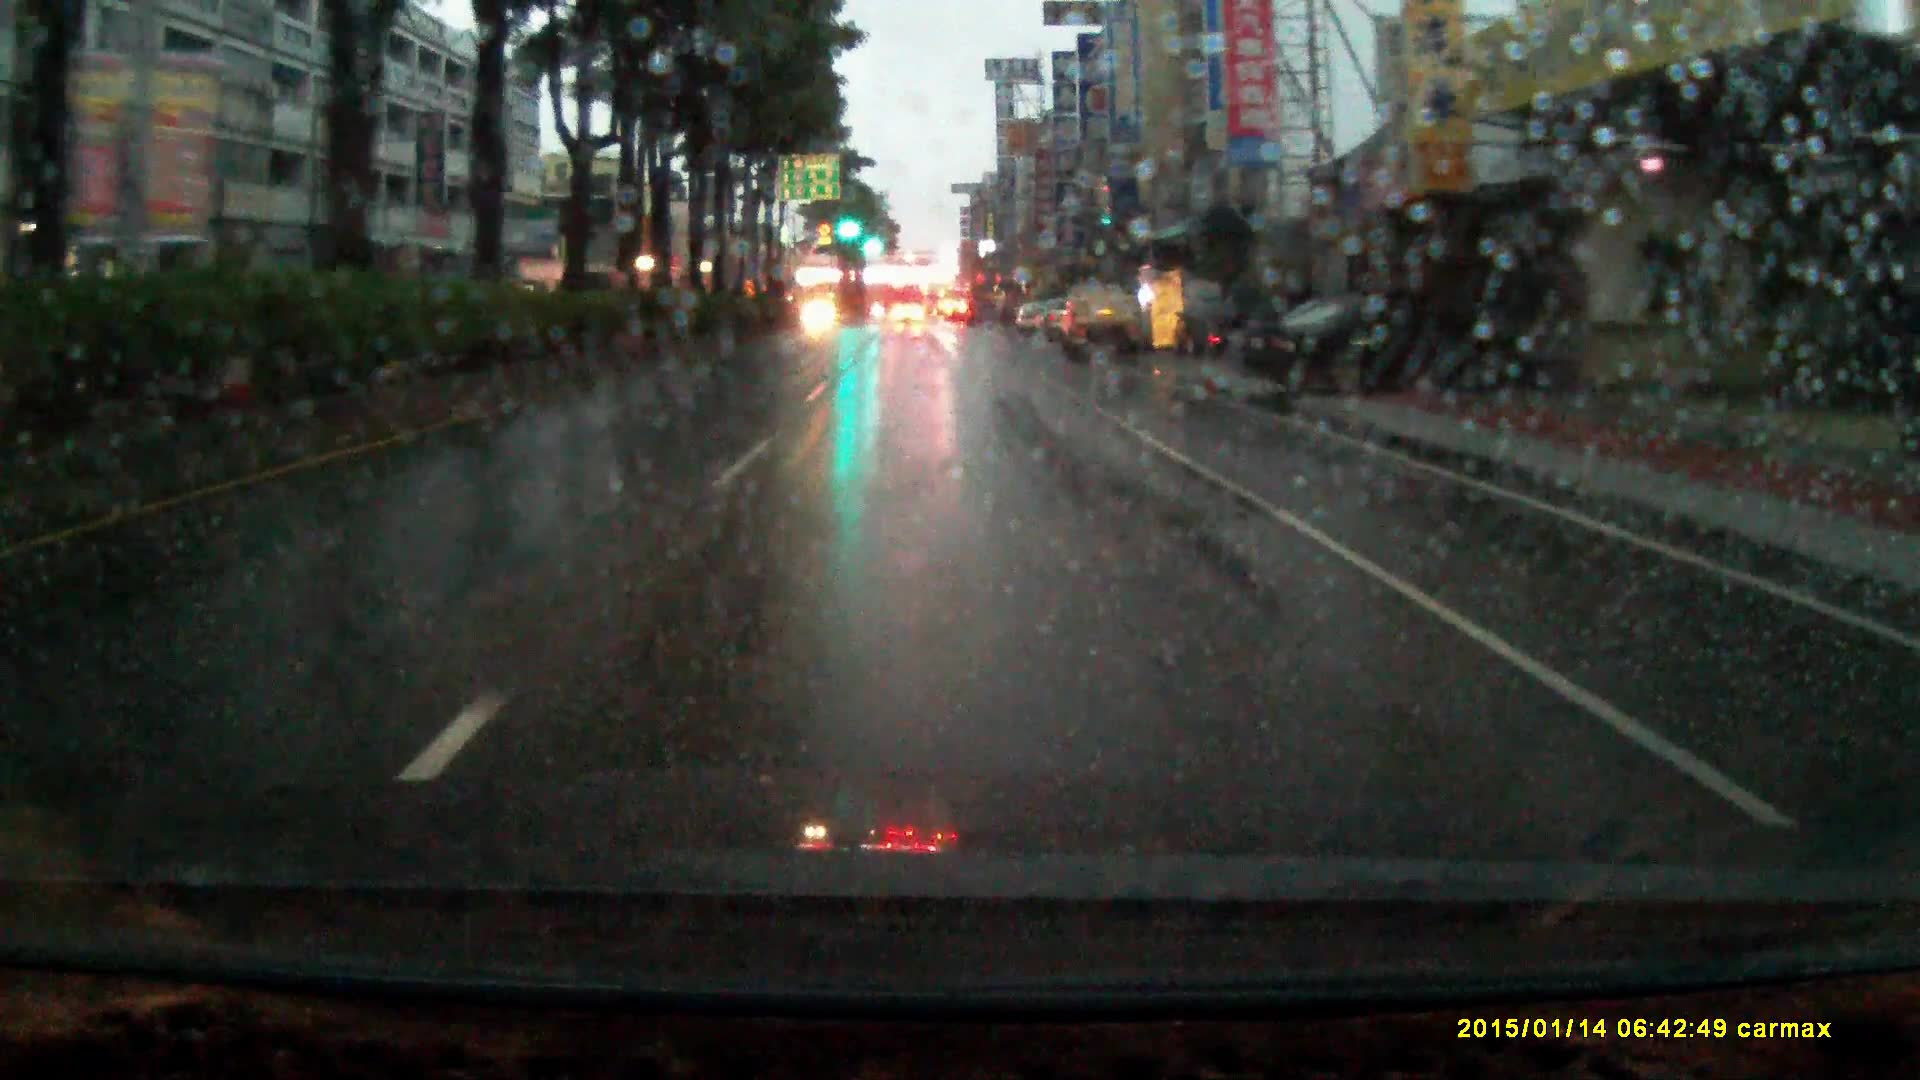vehicle: (1229, 298, 1555, 389), (1062, 281, 1139, 360), (1172, 295, 1259, 361), (799, 295, 841, 335), (890, 301, 927, 324), (924, 282, 945, 319)
